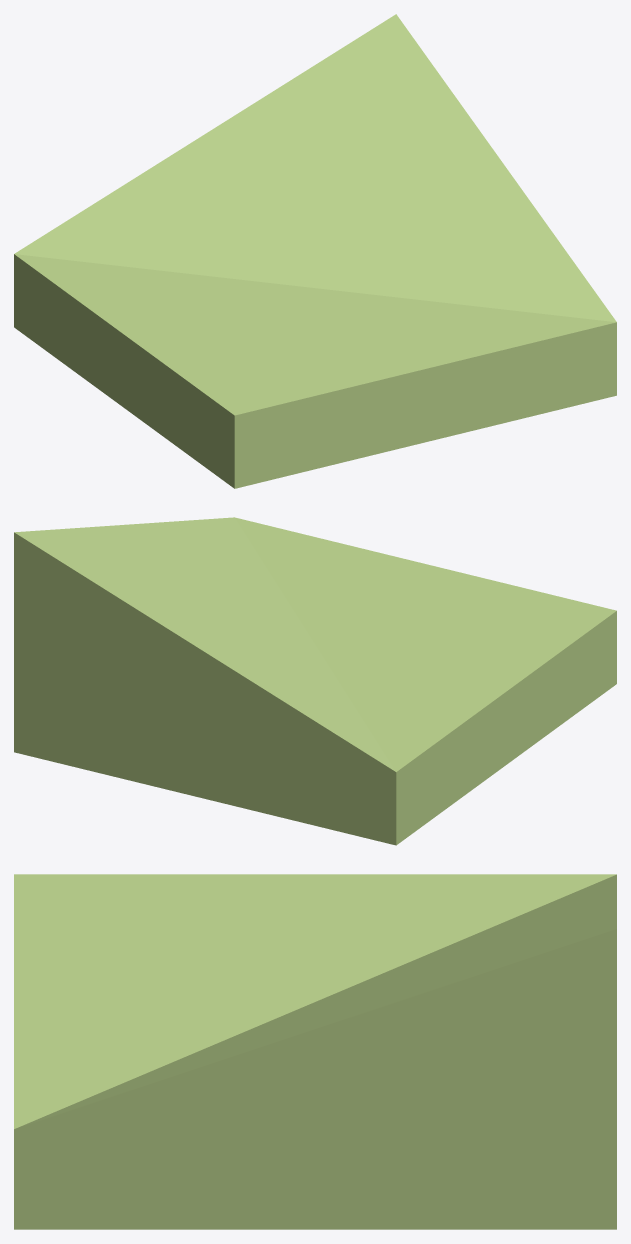
Rendered from tile091.glb.
The picture shows the model from 3 angles, top to bottom: view 1: azimuth 30°, elevation 25°; view 2: azimuth 150°, elevation 25°; view 3: azimuth 270°, elevation 25°; orthographic projection. The views are drawn at different scales.
Visible parts, largest first — view 1: tile091; view 2: tile091; view 3: tile091.
Boxes of the visible parts, x1,y1,x2,y2 form: tile091: [14, 14, 616, 488]; tile091: [14, 517, 616, 845]; tile091: [14, 874, 616, 1229].
Bounding box in the file's own units: 1 × 0.55 × 1.
